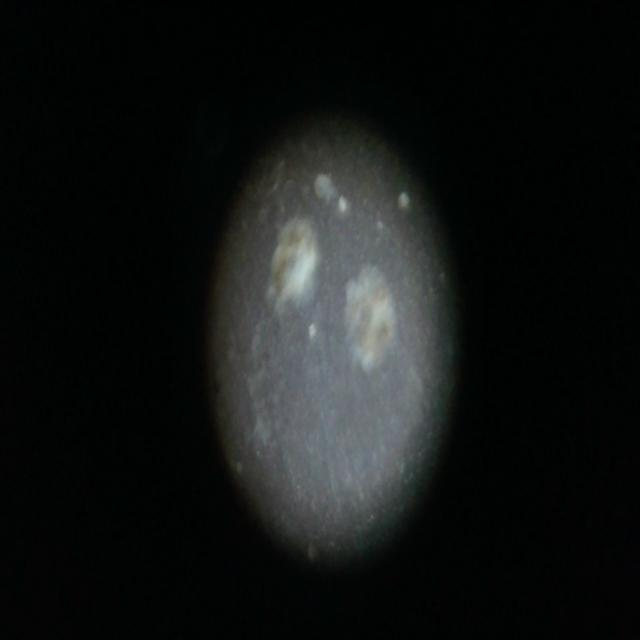alexandrium: (264, 212, 322, 328), (342, 264, 402, 362)
